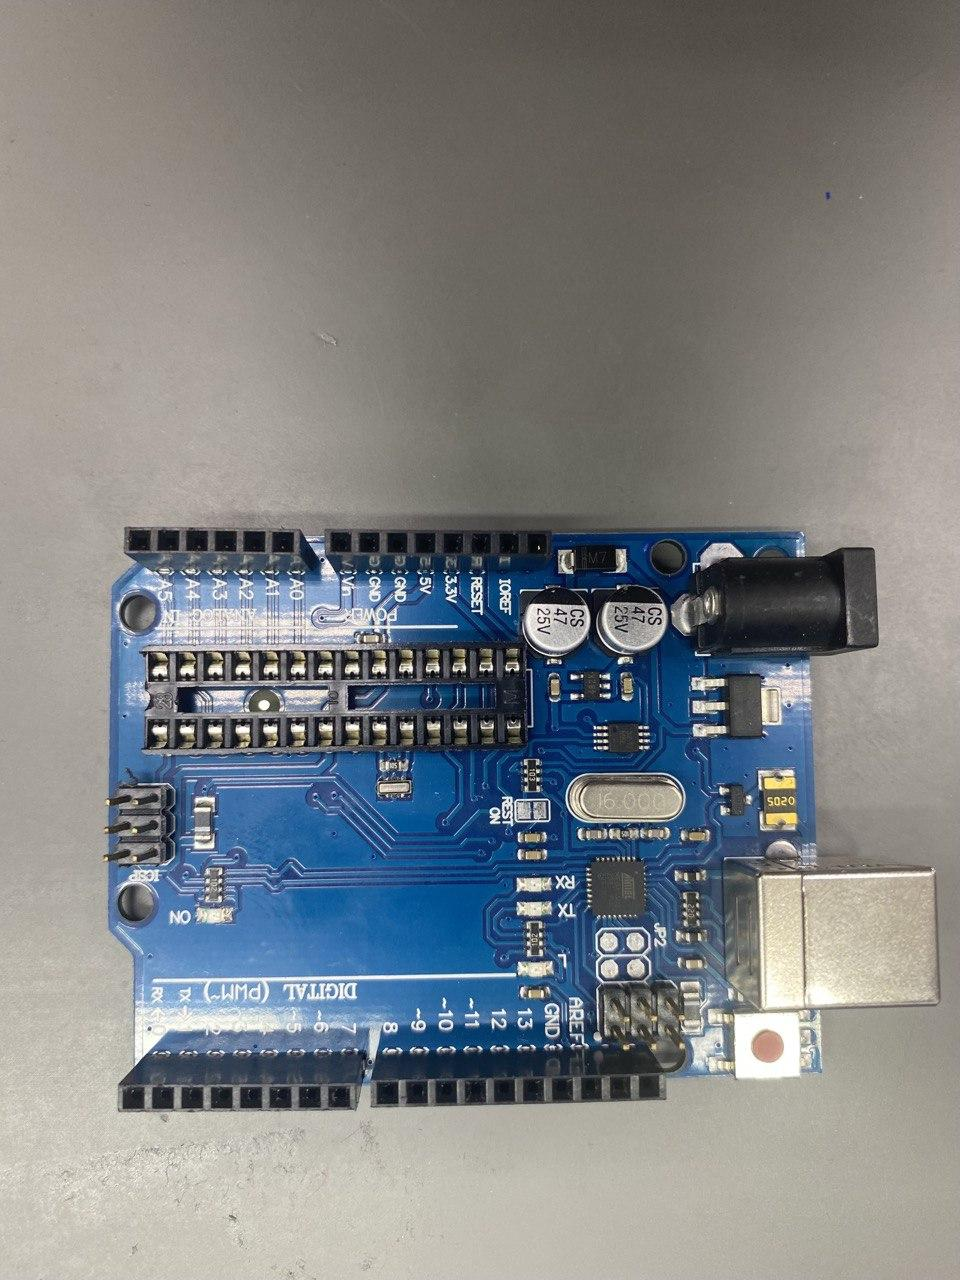Arduino board: (104, 525, 941, 1112)
USB: (723, 857, 941, 1012)
capacitor: (592, 585, 668, 656), (518, 586, 591, 658)
pins: (370, 1043, 667, 1108), (117, 1050, 367, 1113), (325, 529, 551, 574), (124, 526, 318, 573)
resistor: (681, 891, 702, 927), (524, 921, 545, 958), (522, 758, 542, 792), (205, 868, 223, 903)
